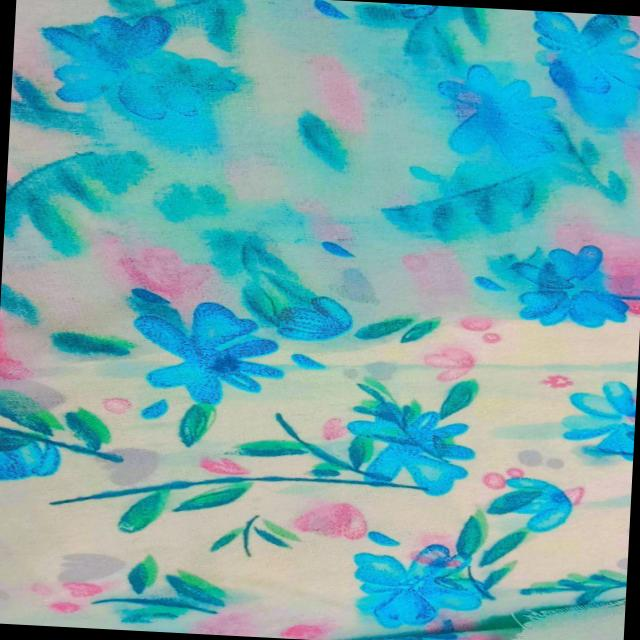baekra: (0, 0, 640, 431), (3, 549, 619, 640)
